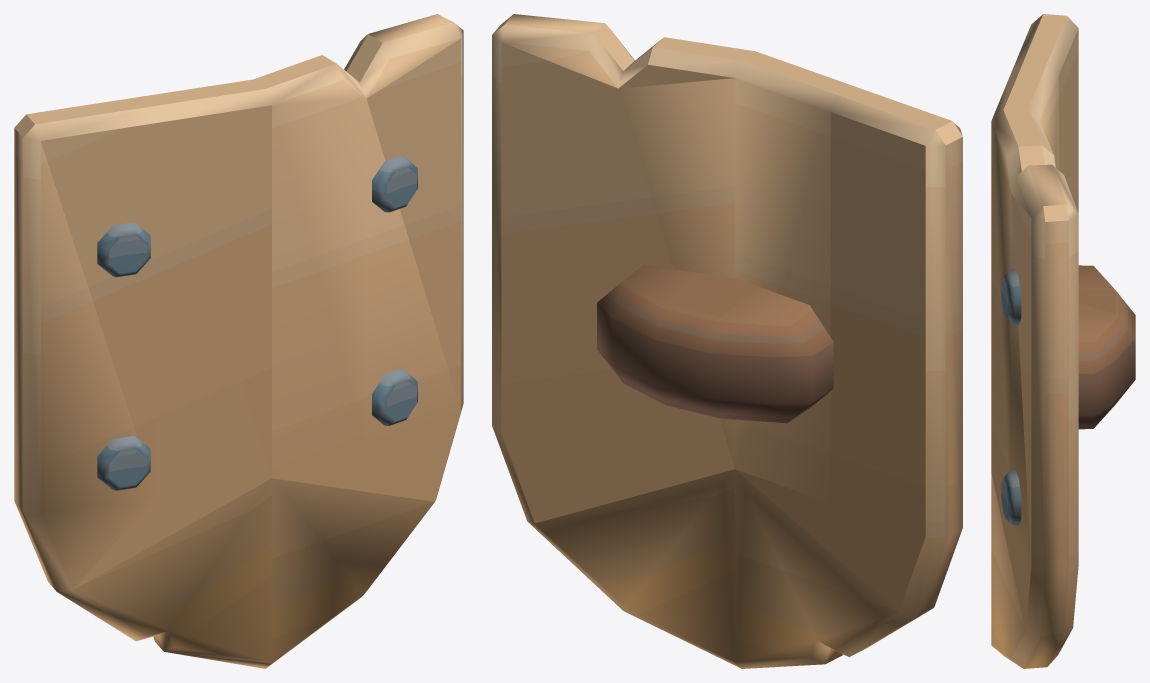
The model's file is shield_a.glb.
The picture shows the model from 3 angles, left to right: view 1: azimuth 30°, elevation 25°; view 2: azimuth 150°, elevation 25°; view 3: azimuth 270°, elevation 25°; orthographic projection. The views are drawn at different scales.
Visible parts, largest first — view 1: shield_a; view 2: shield_a; view 3: shield_a.
Part boxes in pixels (bbox=[...]): shield_a: bbox=[14, 14, 463, 668]; shield_a: bbox=[492, 14, 962, 668]; shield_a: bbox=[991, 14, 1135, 668].
Bounding box in the file's own units: 0.7726 × 0.9799 × 0.233.
1 material, 1 textured.
